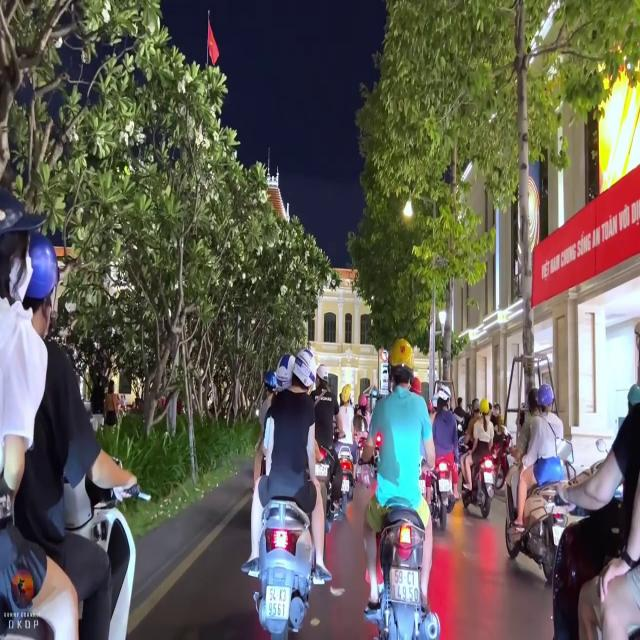bien_trang: (387, 564, 423, 614), (267, 579, 290, 622)
